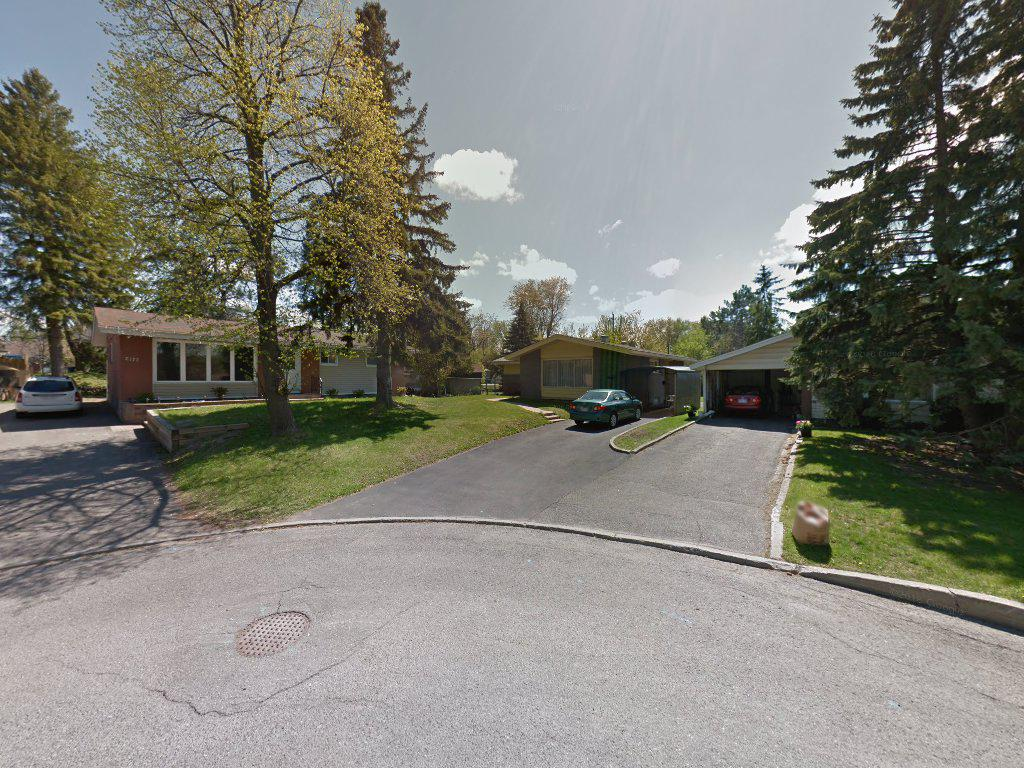trunk: (252, 279, 292, 440), (373, 311, 397, 422)
